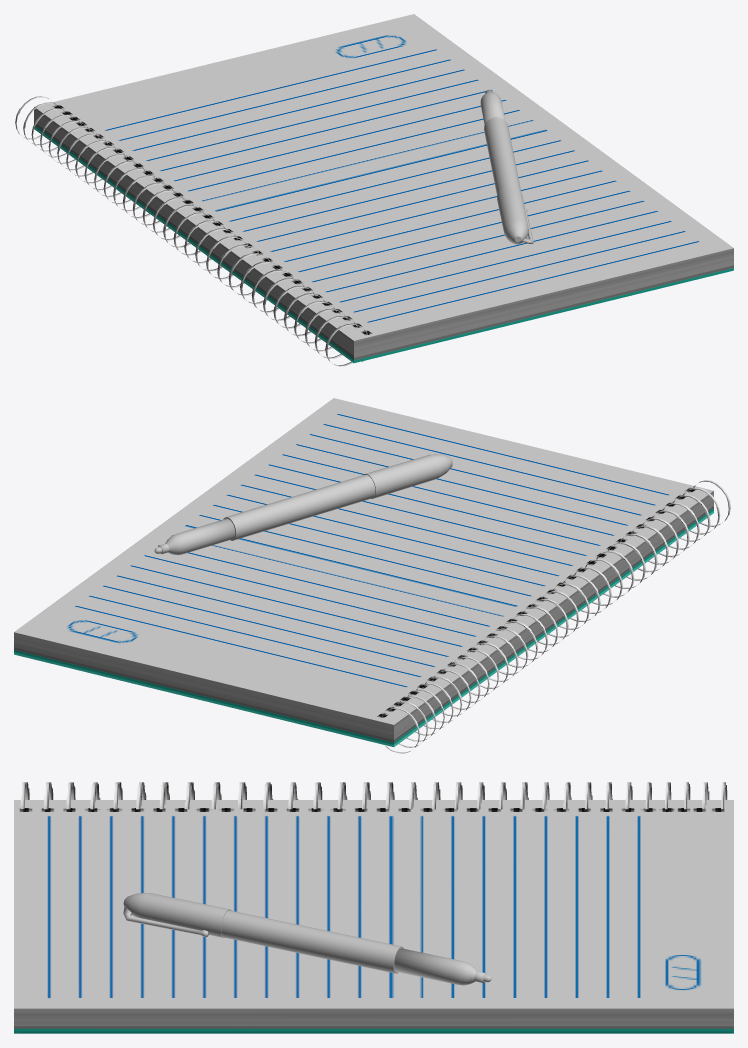
The model's file is Idle_Anim.FBX.
3 renders of one model, top to bottom at view 1: azimuth 30°, elevation 25°; view 2: azimuth 150°, elevation 25°; view 3: azimuth 270°, elevation 25°, orthographic. The views are drawn at different scales.
Visible parts, largest first — view 1: notepad_bottom, Notepad, Sharpie_Marker, Sharpie_Marker_CAP; view 2: notepad_bottom, Notepad, Sharpie_Marker, Sharpie_Marker_CAP; view 3: notepad_bottom, Sharpie_Marker, Notepad, Sharpie_Marker_CAP.
Boxes of the visible parts, left/top/right/bottom form: notepad_bottom: left=34, top=14, right=733, bottom=363; Notepad: left=15, top=96, right=367, bottom=366; Sharpie_Marker: left=480, top=89, right=521, bottom=195; Sharpie_Marker_CAP: left=497, top=186, right=533, bottom=244; notepad_bottom: left=14, top=398, right=713, bottom=747; Notepad: left=381, top=480, right=730, bottom=753; Sharpie_Marker: left=154, top=475, right=375, bottom=555; Sharpie_Marker_CAP: left=364, top=454, right=452, bottom=498; notepad_bottom: left=14, top=800, right=733, bottom=1033; Sharpie_Marker: left=221, top=910, right=491, bottom=985; Notepad: left=20, top=782, right=727, bottom=809; Sharpie_Marker_CAP: left=123, top=893, right=231, bottom=937.
Size of the model in its own units: 26.43 by 3.39 by 36.46.
